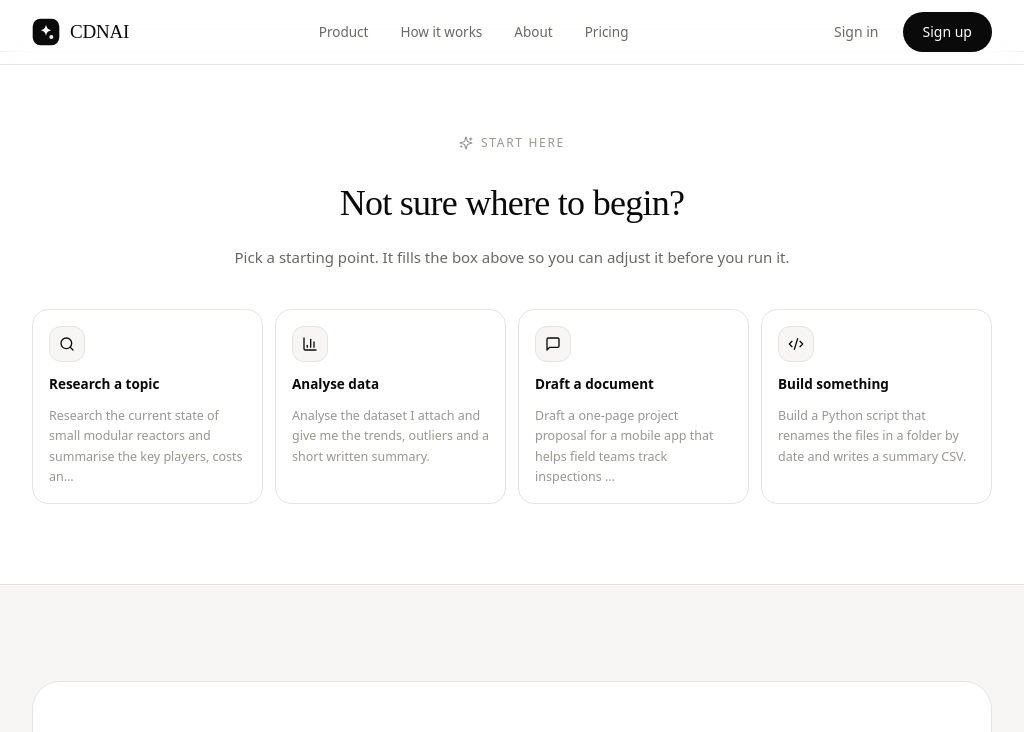
Test: LandingPage composer gating › fills the composer when a starter task is tapped
This screenshot has width=1024, height=732.
(page scrolled)
Click the text "Research a topic" at (104, 384), box x1=49 y1=374 x2=159 y2=394
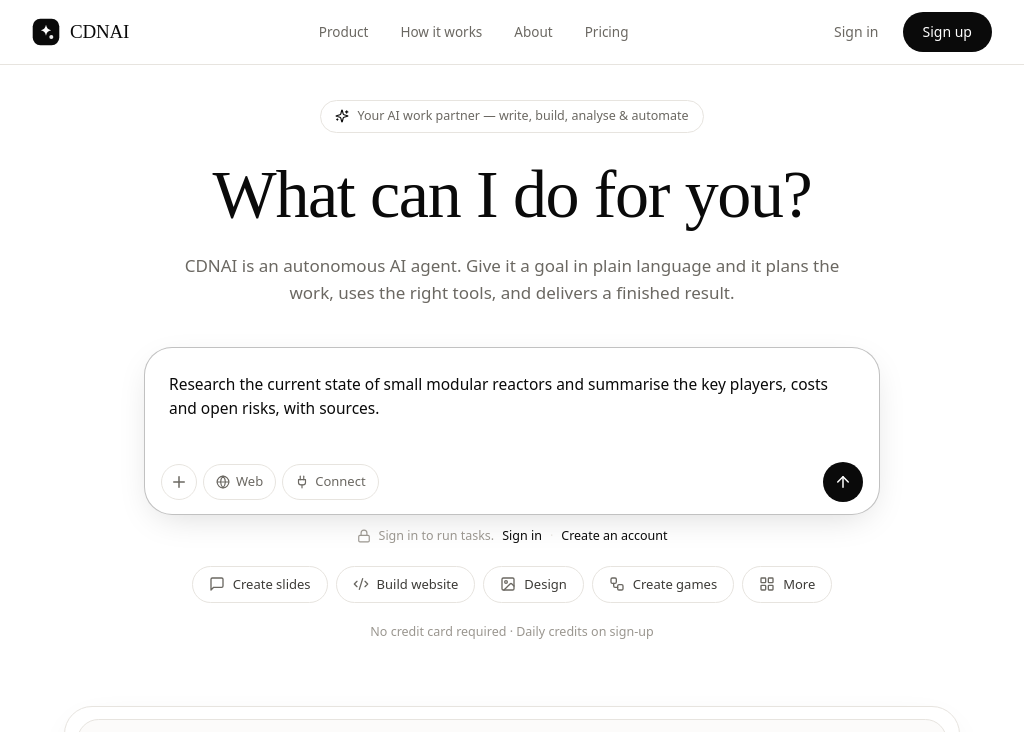
Expected: the text box named "Describe what you want CDNAI to work on" holds "Research the current state of small modular reactors and summarise the key players, costs and open risks, with sources.", x1=153 y1=356 x2=871 y2=448
